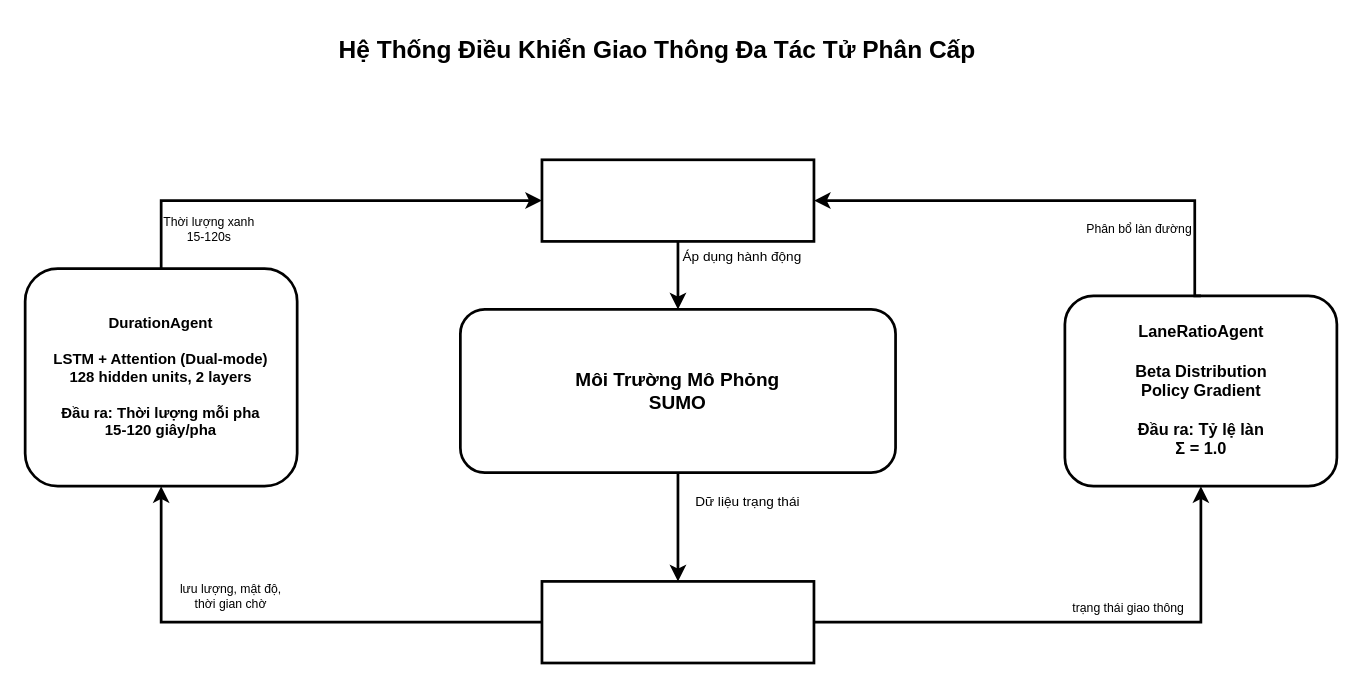
This 1361x687 diagram has some shape labels left out. The centre of each missing label's shape, as x and y in pixels:
"Cảm Biến TraCI E1 Detectors" belongs at (677,621).
"Tín Hiệu Đèn Giao Thông Giao Diện Điều Khiển" belongs at (677,200).
